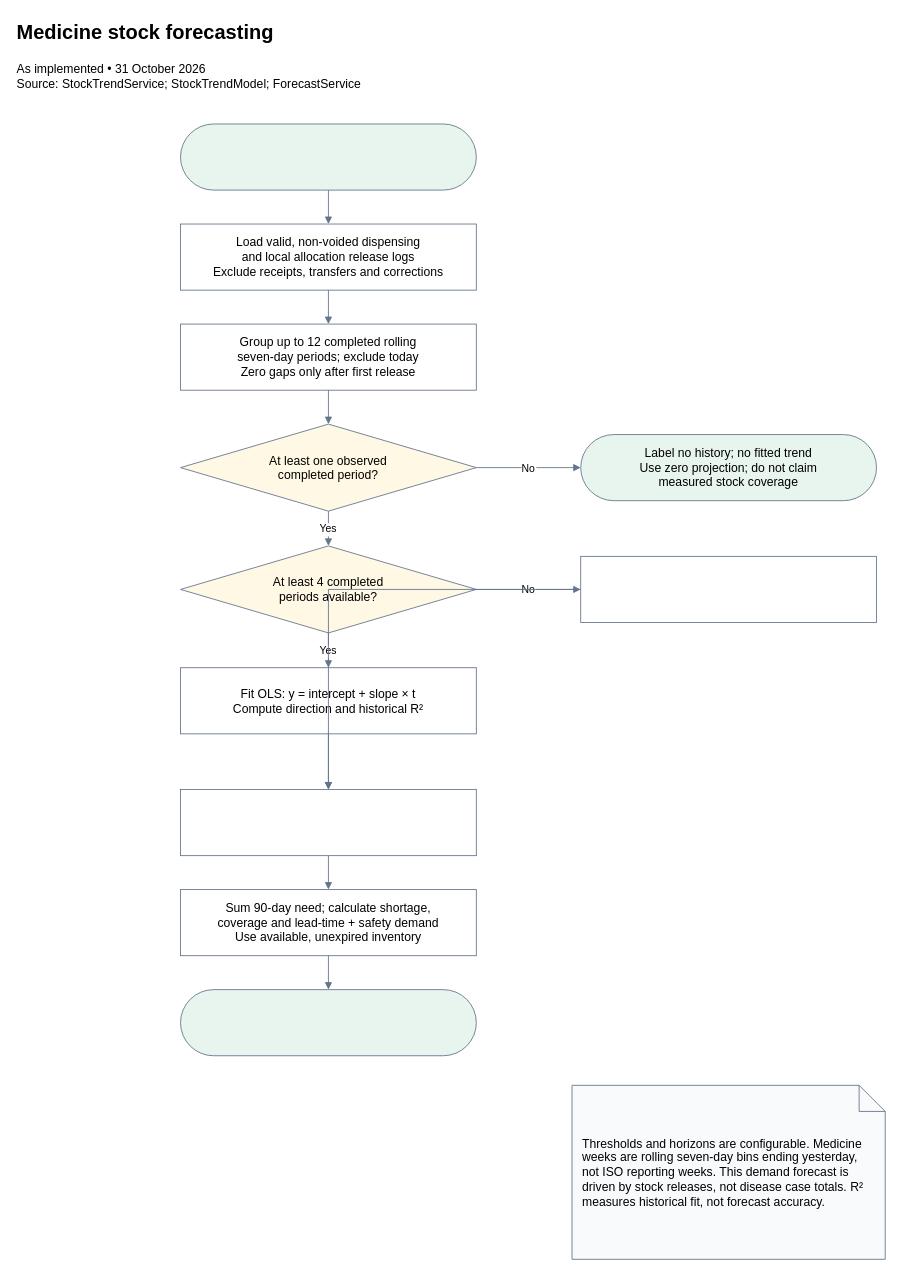
This 917x1275 diagram has some shape labels left out. Here are the shapes that lost their labels. From the top down, the centre of each, then its label:
(x=328, y=156): Start: view forecast for one RHU or provincial medicine / facility entries
(x=728, y=588): Fit weekly-average fallback Label limited history
(x=328, y=822): Project weekly demand; clamp below 0 Convert to daily demand; prorate periods
(x=328, y=1022): Display trend, stock status, coverage and reorder point
